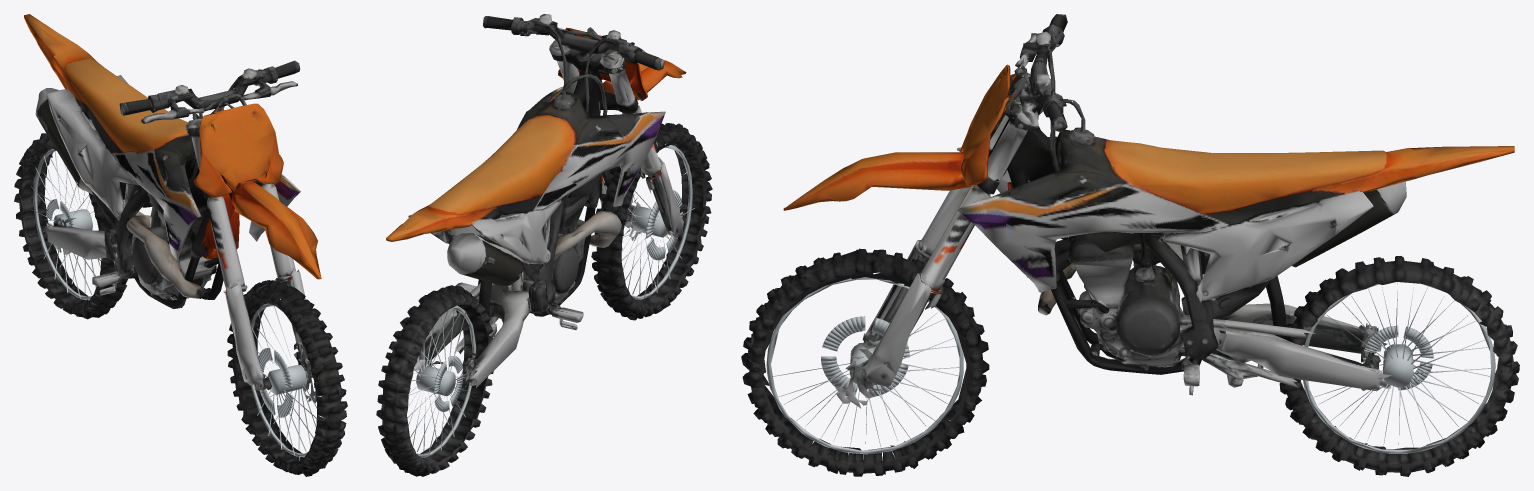
Rendered from orange-cross-16000-BI49WTXr.glb.
The picture shows the model from 3 angles, left to right: view 1: azimuth 30°, elevation 25°; view 2: azimuth 150°, elevation 25°; view 3: azimuth 270°, elevation 25°; orthographic projection. The views are drawn at different scales.
Visible parts, largest first — view 1: SM_Tripo_Body, SM_Tripo_Fork, SM_Tripo_WheelFront, SM_Tripo_WheelRear, SM_Tripo_WheelFront_CleanSpokes, SM_Tripo_Handlebar, SM_Tripo_WheelRear_CleanSpokes, SM_Tripo_Swingarm_Chain; view 2: SM_Tripo_Body, SM_Tripo_WheelRear, SM_Tripo_Fork, SM_Tripo_WheelFront, SM_Tripo_Swingarm_Chain, SM_Tripo_Handlebar, SM_Tripo_WheelRear_CleanSpokes, SM_Tripo_WheelFront_CleanSpokes; view 3: SM_Tripo_Body, SM_Tripo_Fork, SM_Tripo_WheelRear, SM_Tripo_WheelFront, SM_Tripo_Swingarm_Chain, SM_Tripo_WheelRear_CleanSpokes, SM_Tripo_WheelFront_CleanSpokes, SM_Tripo_Handlebar.
Part boxes in pixels (x1,y1,x2,y2): SM_Tripo_Body: [24, 14, 294, 308]; SM_Tripo_Fork: [141, 66, 347, 473]; SM_Tripo_WheelFront: [228, 280, 346, 476]; SM_Tripo_WheelRear: [14, 133, 127, 319]; SM_Tripo_WheelFront_CleanSpokes: [250, 303, 323, 457]; SM_Tripo_Handlebar: [119, 60, 300, 141]; SM_Tripo_WheelRear_CleanSpokes: [31, 148, 100, 300]; SM_Tripo_Swingarm_Chain: [45, 215, 150, 259]; SM_Tripo_Body: [386, 68, 660, 330]; SM_Tripo_WheelRear: [376, 285, 493, 476]; SM_Tripo_Fork: [516, 14, 712, 316]; SM_Tripo_WheelFront: [592, 123, 710, 320]; SM_Tripo_Swingarm_Chain: [413, 276, 544, 387]; SM_Tripo_Handlebar: [483, 16, 664, 77]; SM_Tripo_WheelRear_CleanSpokes: [407, 305, 476, 457]; SM_Tripo_WheelFront_CleanSpokes: [621, 144, 694, 299]; SM_Tripo_Body: [942, 100, 1514, 395]; SM_Tripo_Fork: [747, 24, 1073, 476]; SM_Tripo_WheelRear: [1276, 256, 1519, 476]; SM_Tripo_WheelFront: [741, 248, 989, 476]; SM_Tripo_Swingarm_Chain: [1221, 230, 1391, 391]; SM_Tripo_WheelRear_CleanSpokes: [1303, 282, 1495, 453]; SM_Tripo_WheelFront_CleanSpokes: [766, 277, 963, 454]; SM_Tripo_Handlebar: [987, 14, 1072, 132].
Size of the model in its own units: 0.8387 by 1.54 by 2.57.
2 materials, 1 textured.
